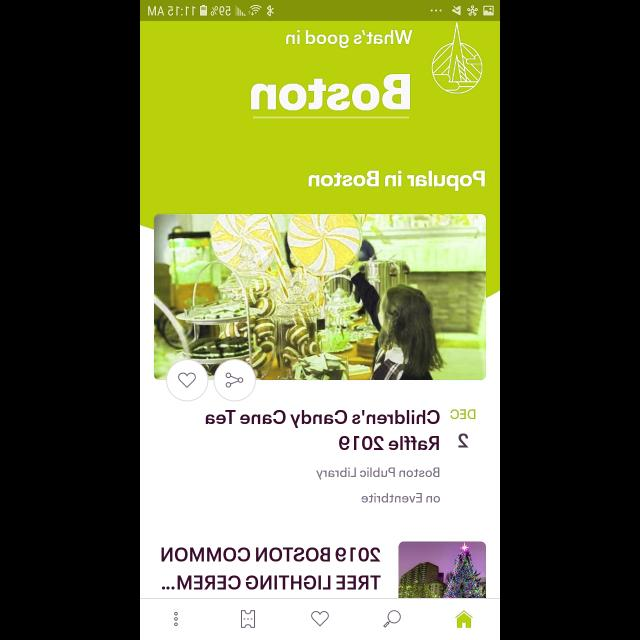icon: (214, 359, 256, 401), (166, 359, 208, 401), (455, 610, 473, 628), (383, 610, 401, 628), (311, 610, 329, 626), (241, 610, 255, 628), (174, 612, 178, 626)
image: (154, 214, 486, 380), (398, 542, 486, 598), (431, 22, 482, 94)
text: (205, 410, 475, 450), (162, 547, 380, 589), (250, 75, 410, 112), (316, 467, 440, 503), (308, 170, 484, 192), (286, 30, 412, 48)
uppertaskbar: (140, 1, 500, 22)
